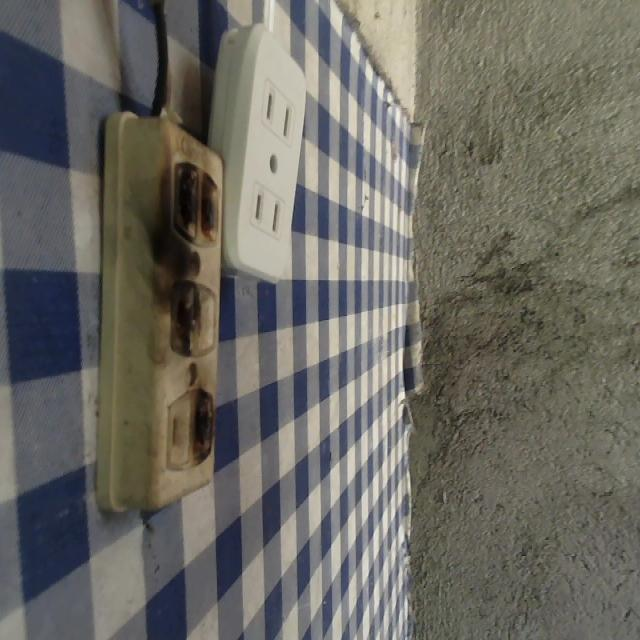-: (147, 139, 230, 252), (155, 268, 200, 361), (185, 381, 224, 468)
